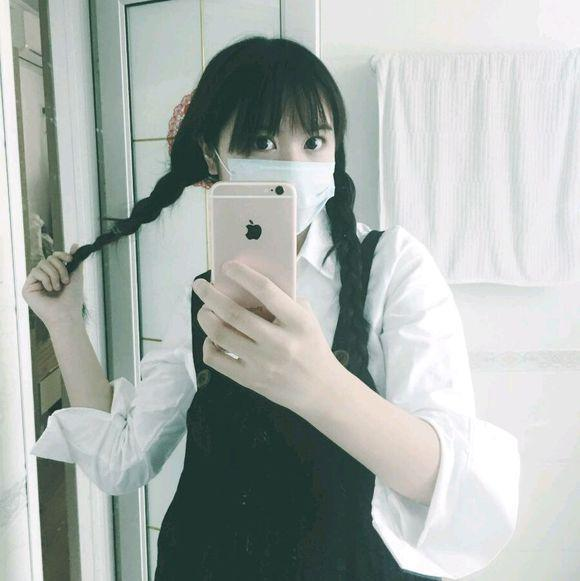OK: (217, 115, 333, 231)
